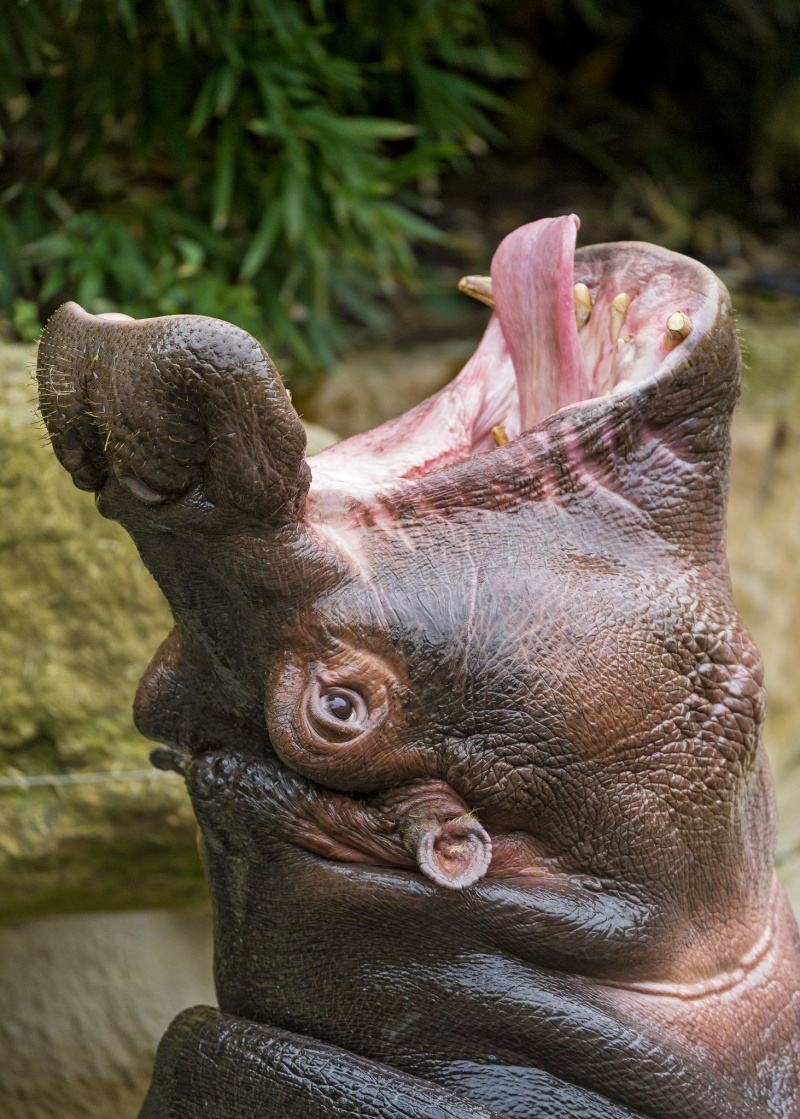hipopotamo: (49, 241, 789, 1119)
